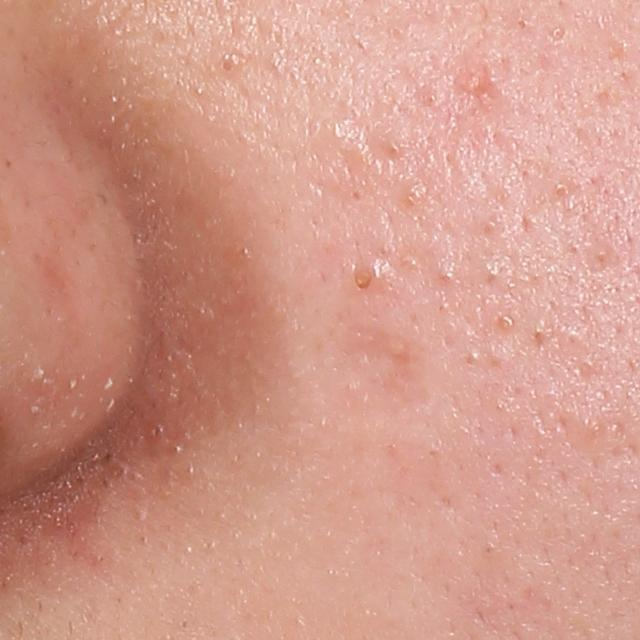comedo: (351, 267, 372, 293), (498, 314, 515, 334), (553, 181, 571, 199)
